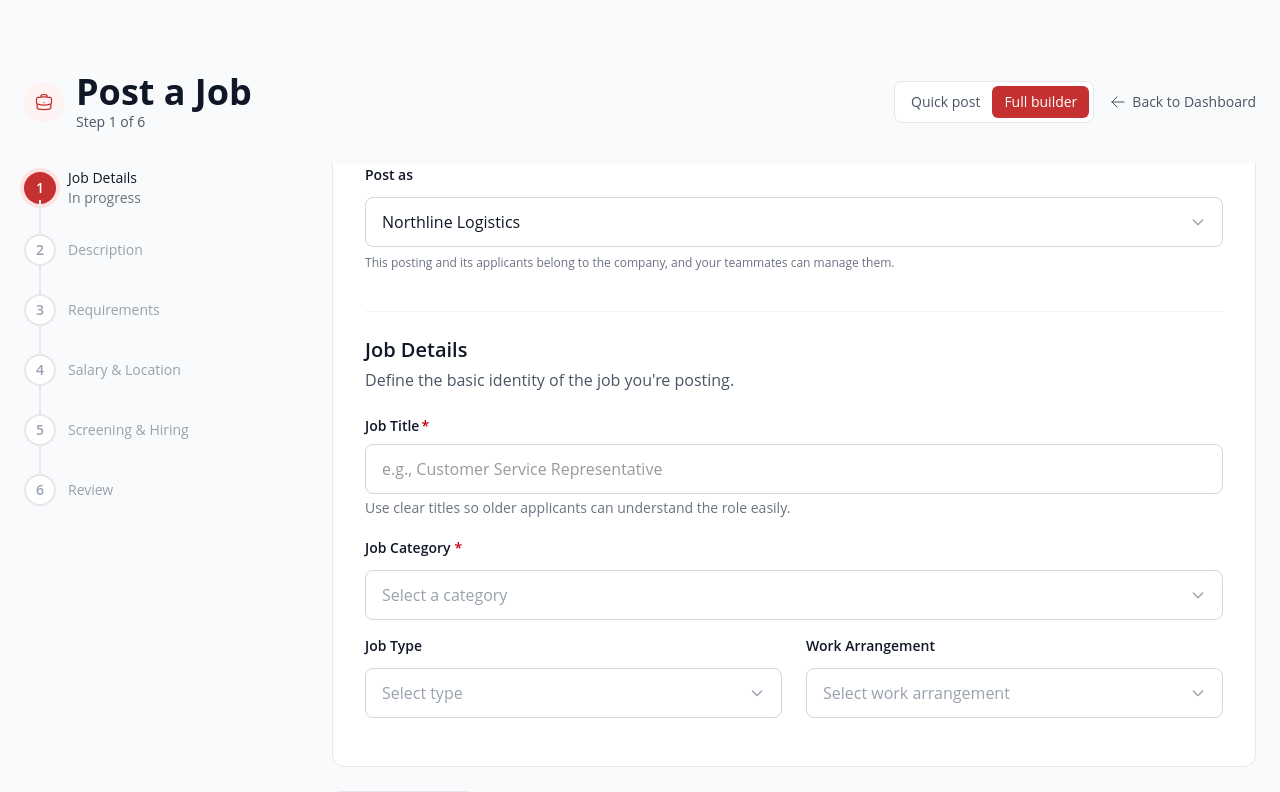
Test: job builder company gate › offers no individual option inside the full builder
Click the dropdown named "Post as" at (451, 222), box [365,197,1223,247]
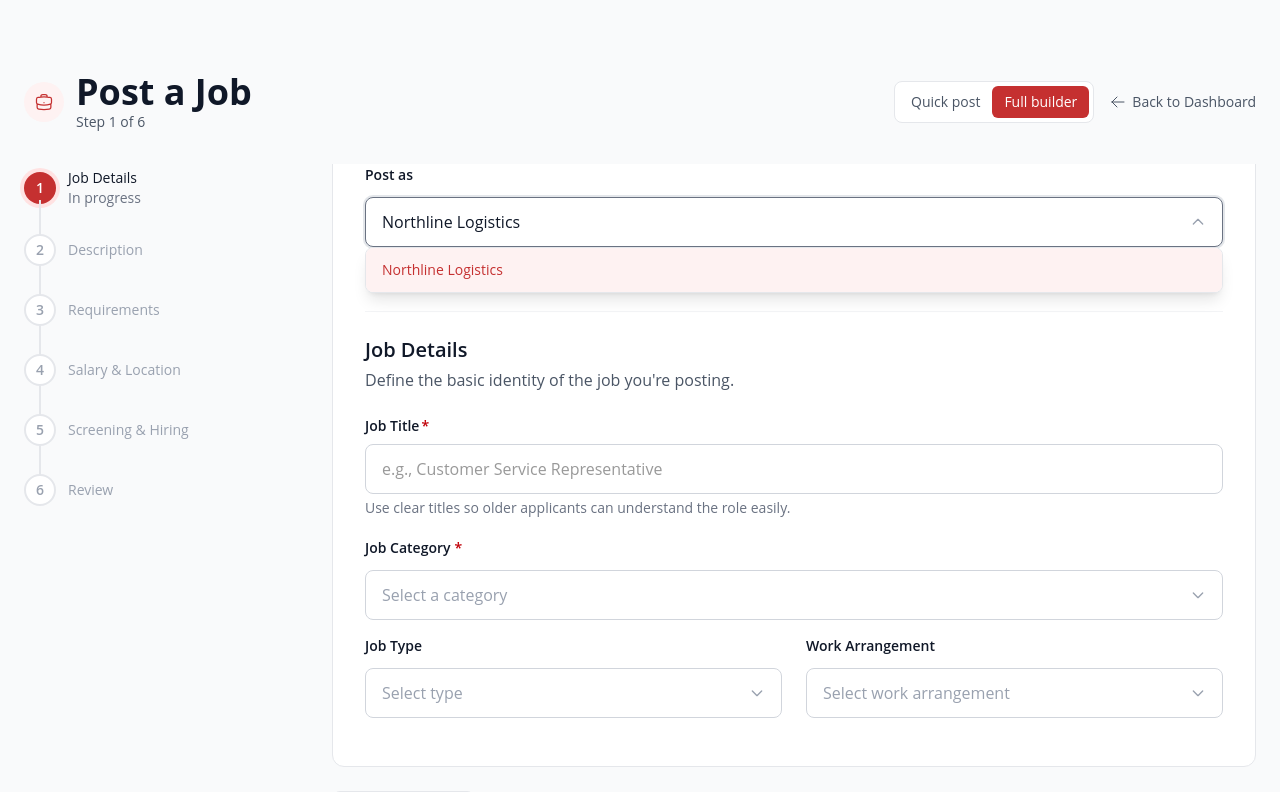
Expected: the options read "Northline Logistics", in this order, [366,248,1222,292]
